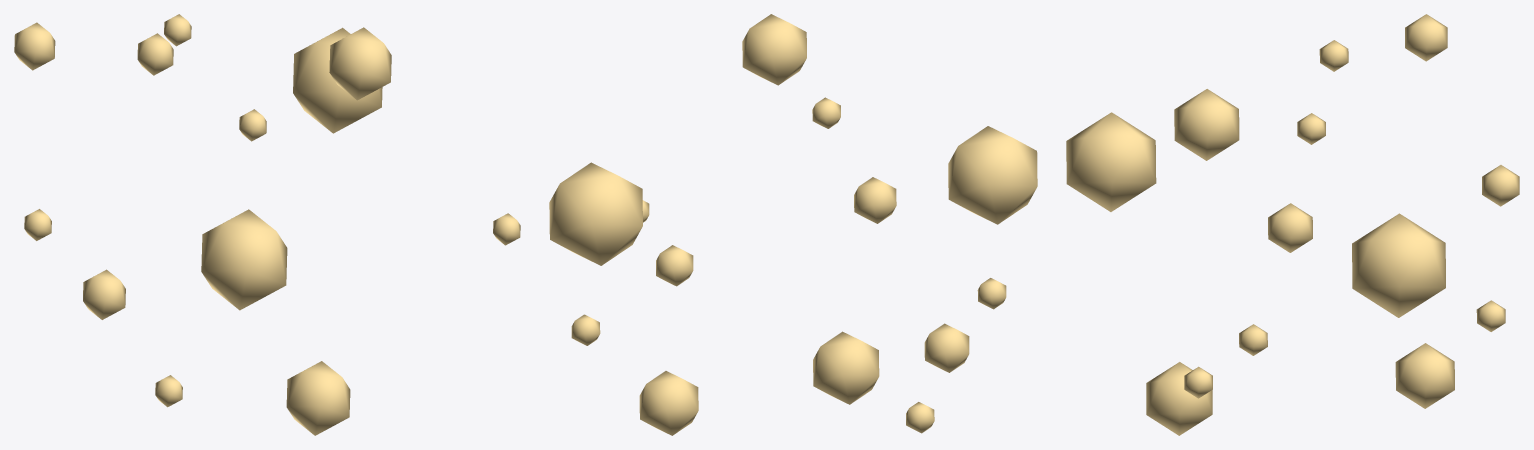
3 views of the same model, side by side, from view 1: azimuth 30°, elevation 25°; view 2: azimuth 150°, elevation 25°; view 3: azimuth 270°, elevation 25° (orthographic). The views are drawn at different scales.
Parts seen in each view (by area): view 1: Sphere283, Sphere285, Sphere274, Sphere279, Sphere281, Sphere286, Sphere278, Sphere277, Sphere275, Sphere282, Sphere284, Sphere280; view 2: Sphere285, Sphere283, Sphere274, Sphere279, Sphere276, Sphere281, Sphere286, Sphere278, Sphere277, Sphere282, Sphere284, Sphere280; view 3: Sphere285, Sphere283, Sphere279, Sphere274, Sphere276, Sphere281, Sphere286, Sphere278, Sphere280, Sphere277, Sphere284, Sphere275 (+1 smaller).
Boxes of the visible parts, x1,y1,x2,y2 form: Sphere283: [201, 209, 287, 310]; Sphere285: [293, 27, 382, 133]; Sphere274: [286, 361, 350, 435]; Sphere279: [329, 27, 391, 100]; Sphere281: [83, 269, 125, 319]; Sphere286: [14, 22, 55, 70]; Sphere278: [137, 33, 173, 75]; Sphere277: [239, 109, 266, 141]; Sphere275: [493, 213, 520, 245]; Sphere282: [24, 209, 51, 240]; Sphere284: [155, 375, 182, 407]; Sphere280: [164, 14, 191, 46]; Sphere285: [549, 162, 642, 265]; Sphere283: [948, 126, 1037, 224]; Sphere274: [813, 331, 879, 404]; Sphere279: [742, 14, 806, 85]; Sphere276: [639, 371, 698, 435]; Sphere281: [924, 323, 969, 372]; Sphere286: [854, 177, 896, 223]; Sphere278: [656, 245, 693, 286]; Sphere277: [571, 314, 600, 345]; Sphere282: [977, 278, 1006, 309]; Sphere284: [906, 402, 934, 433]; Sphere280: [812, 97, 840, 128]; Sphere285: [1352, 213, 1445, 317]; Sphere283: [1066, 112, 1156, 211]; Sphere279: [1174, 89, 1239, 160]; Sphere274: [1146, 362, 1212, 435]; Sphere276: [1395, 343, 1454, 408]; Sphere281: [1268, 203, 1312, 252]; Sphere286: [1405, 14, 1447, 61]; Sphere278: [1482, 165, 1519, 206]; Sphere280: [1319, 40, 1348, 71]; Sphere277: [1476, 300, 1505, 331]; Sphere284: [1239, 324, 1267, 355]; Sphere275: [1184, 366, 1212, 398].
Bounding box in the file's own units: 6.91 × 5.6 × 6.4.
